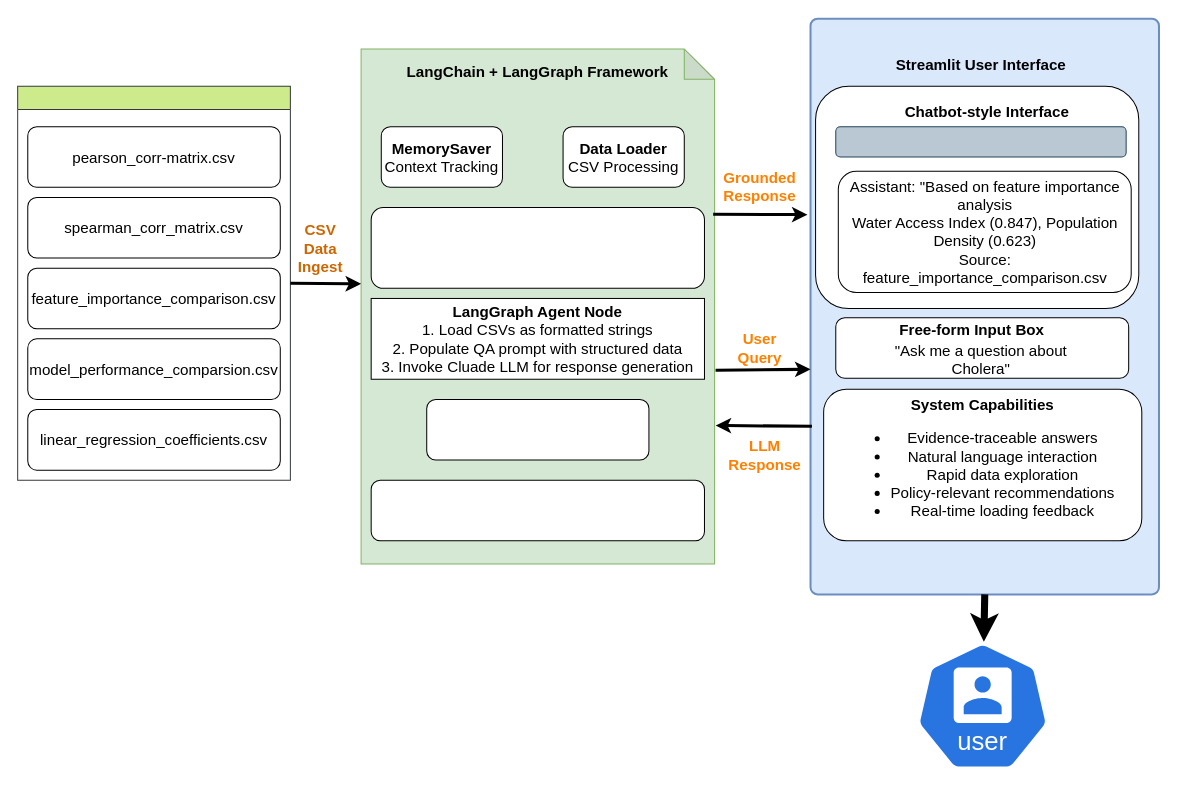
Image size: 1178x788. Some labels were removed from this diagram. Each missing label, with the box of its shape:
Claude LLM Evidence-grounded response generation: (426, 398, 649, 460)
Custom Prompt Template Structured data injection:: (370, 207, 704, 288)
Data Sources: (17, 85, 290, 480)
Multi-turn Dialogue Support Conversation context & follow-up handling: (370, 479, 704, 541)
User: "What are key Cholera predictors?": (835, 126, 1126, 157)
